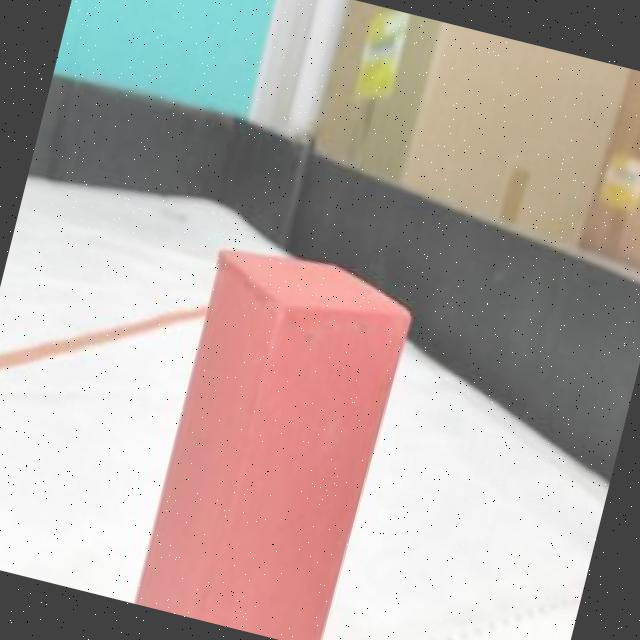redbox: (132, 231, 421, 640)
